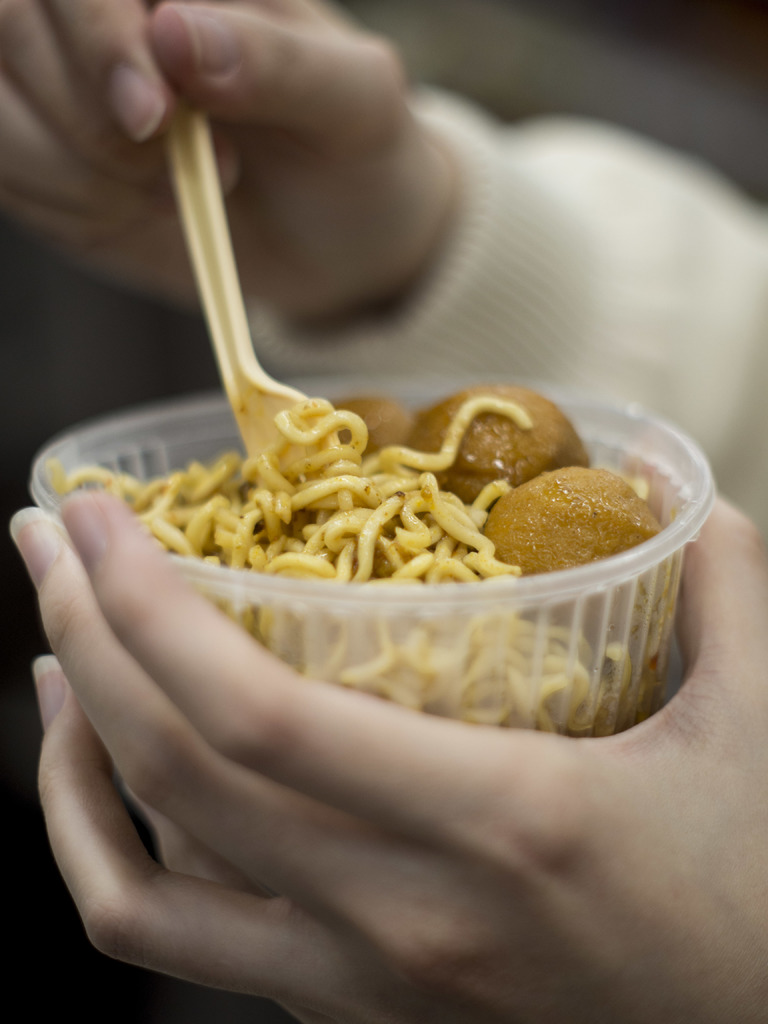pasta: (46, 394, 676, 736)
